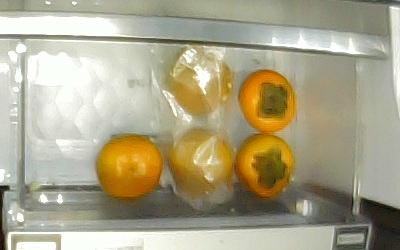persimmon: (96, 135, 163, 199), (234, 134, 295, 200), (238, 70, 295, 134)
persimmon_vinyl: (167, 128, 235, 197), (168, 52, 232, 116)
